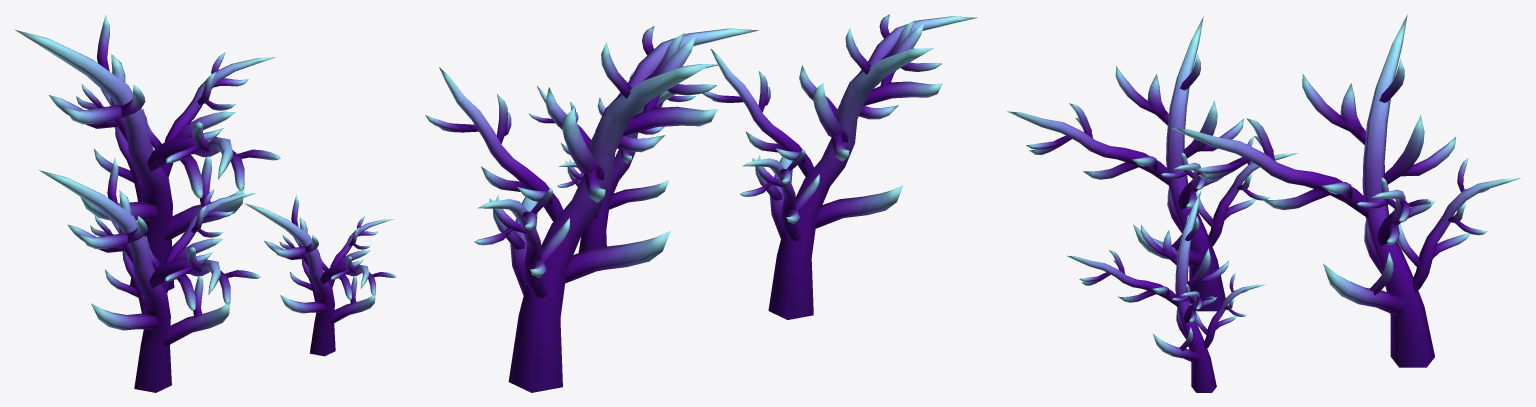
The model's file is Cartoon Seaweed_13-2-19.fbx.
3 renders of one model, left to right at view 1: azimuth 30°, elevation 25°; view 2: azimuth 150°, elevation 25°; view 3: azimuth 270°, elevation 25°, orthographic. The views are drawn at different scales.
Visible parts, largest first — view 1: Cartoon Seaweed_13.2.19; view 2: Cartoon Seaweed_13.2.19; view 3: Cartoon Seaweed_13.2.19.
Boxes of the visible parts, x1,y1,x2,y2 form: Cartoon Seaweed_13.2.19: [15, 14, 396, 392]; Cartoon Seaweed_13.2.19: [425, 14, 977, 392]; Cartoon Seaweed_13.2.19: [1007, 14, 1520, 392].
Size of the model in its own units: 30.86 by 25.19 by 41.86.
1 material, 1 textured.
